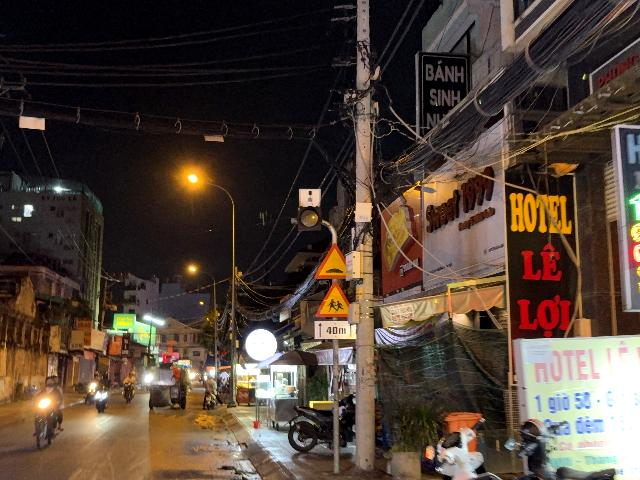duong-co-go-giam-toc: (313, 243, 346, 279)
tre-em-qua-duong: (316, 281, 350, 317)
